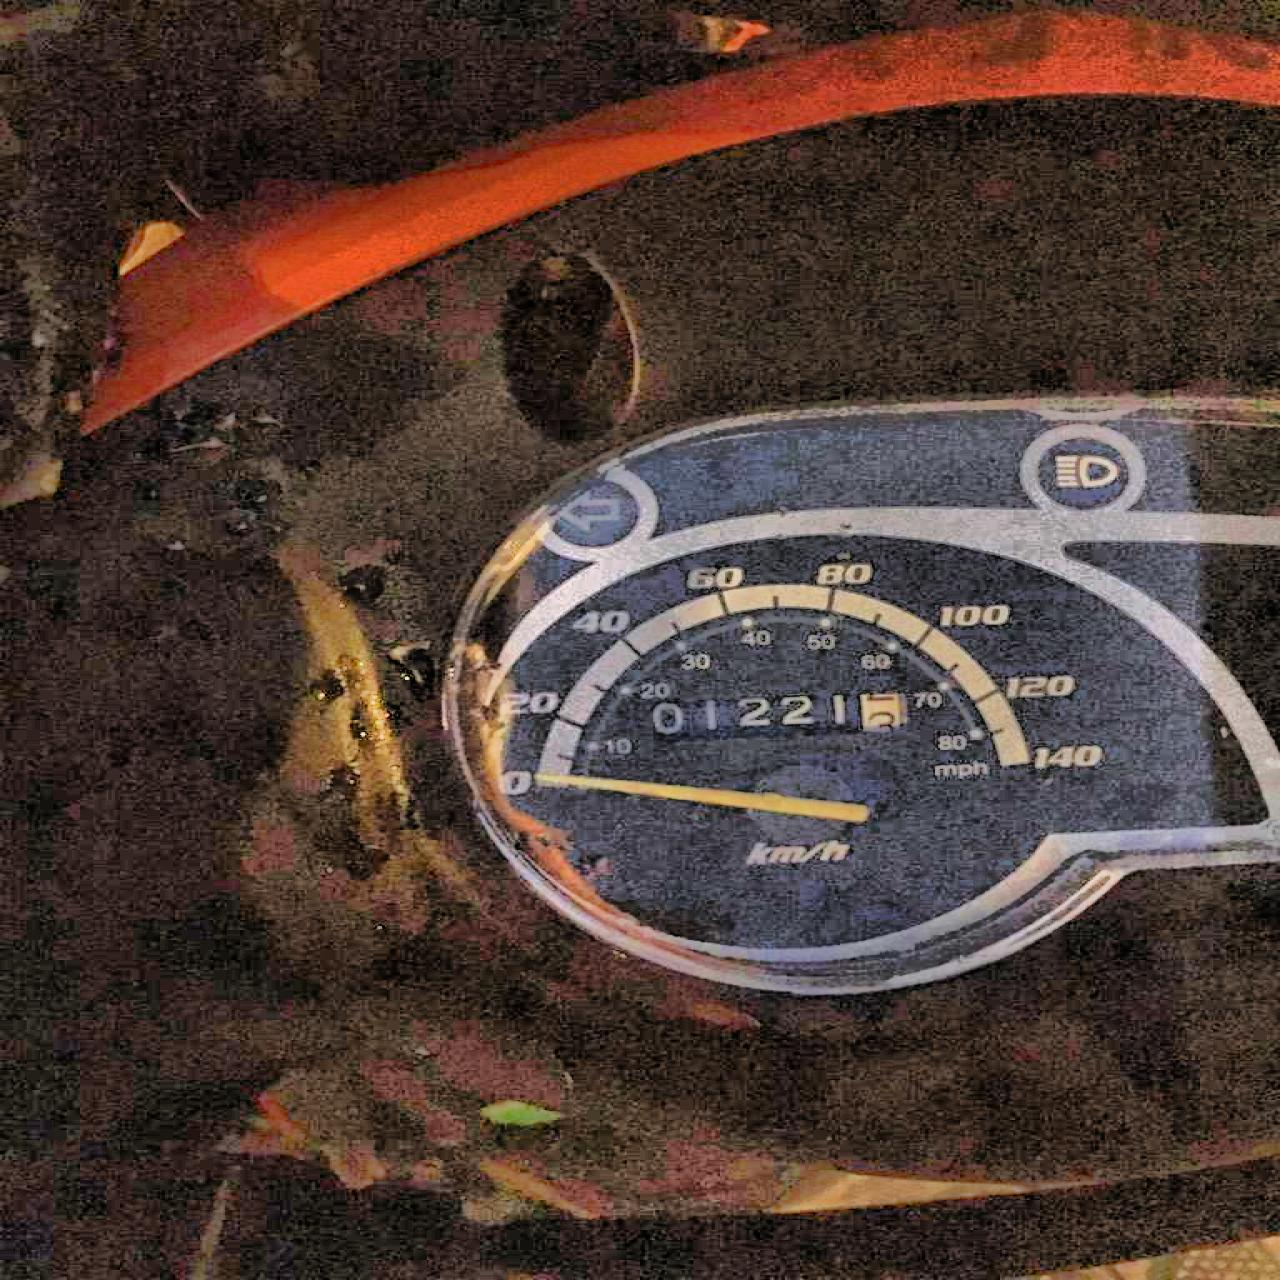0: (647, 701, 686, 735)
1: (699, 694, 720, 730), (826, 692, 846, 723)
2: (779, 694, 815, 728), (737, 696, 770, 729)
3: (866, 708, 900, 734)
odometer: (633, 692, 908, 737)
